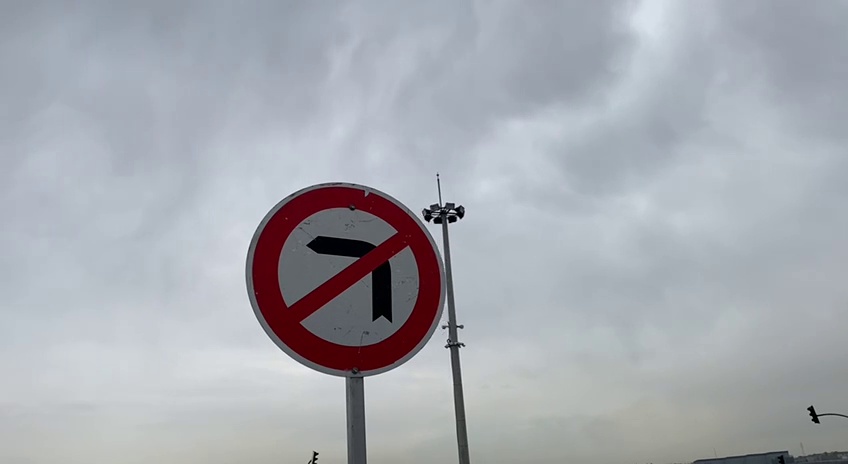noTurnLeft: (232, 172, 453, 384)
